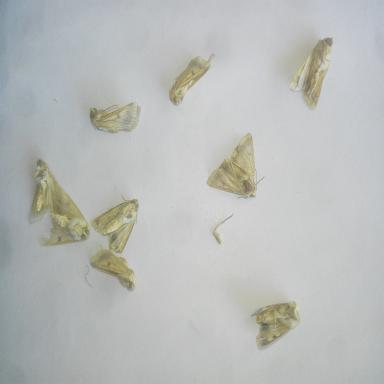abw: (205, 130, 266, 202), (287, 32, 339, 113), (33, 179, 93, 249), (88, 191, 142, 259), (167, 48, 217, 110), (249, 300, 303, 352), (86, 244, 140, 295), (26, 154, 64, 226), (86, 94, 144, 136)
